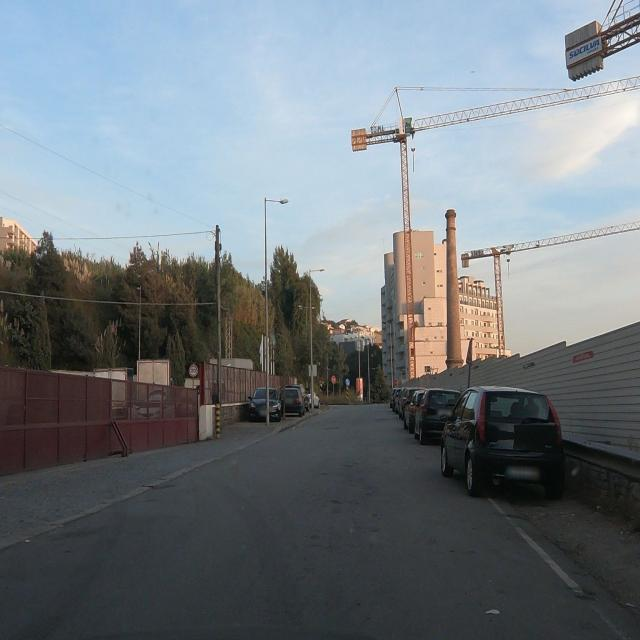car: (440, 384, 566, 500), (414, 388, 461, 444), (247, 387, 283, 423), (403, 389, 425, 433), (396, 386, 421, 420), (282, 386, 306, 416), (390, 387, 402, 411)
